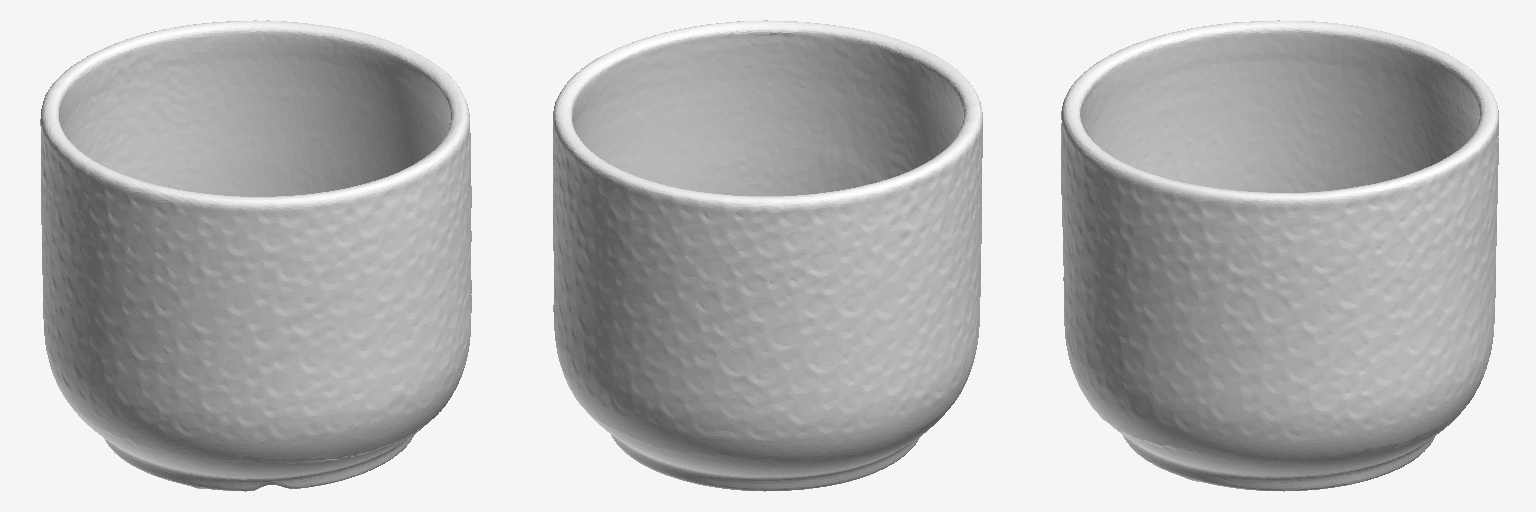
robot.urdf — model.urdf:
<robot name="model.urdf">
    <link name="baseLink">
        <contact>
            <lateral_friction value="0.4"/>
            <rolling_friction value="1"/>
            <spinning_friction value="1"/>
            <contact_cfm value="0.0"/>
            <contact_erp value="1.0"/>
        </contact>
        <inertial>
            <origin rpy="0 -0.01 0" xyz="0.00 0.00 0.0"/>
            <mass value="0.8"/>
            <inertia ixx="1e-3" ixy="0" ixz="0" iyy="1e-3" iyz="0" izz="1e-3"/>
        </inertial>
        <visual>
            <geometry>
                <mesh filename="nontextured.stl" scale="1 1 1"/>
            </geometry>
            <material name="white">
                <color rgba="1 1 1 1"/>
            </material>
        </visual>
        <collision>
            <geometry>
                <mesh filename="nontextured.stl" scale="1 1 1"/>
            </geometry>
        </collision>
    </link>
</robot>

--- Render facts (derived) ---
3 views of the same robot in one strip: view 1: azimuth 30°, elevation 25°; view 2: azimuth 150°, elevation 25°; view 3: azimuth 270°, elevation 25° (orthographic).
Model model.urdf with 1 links and 0 joints (none), rooted at baseLink, posed every joint at zero.
Links seen in each view (by area): view 1: baseLink; view 2: baseLink; view 3: baseLink.
Link boxes in pixels (<box>): baseLink: <box>40,20,471,491</box>; baseLink: <box>553,20,982,491</box>; baseLink: <box>1061,20,1498,491</box>.
Size in the robot's own frame: 0.1642 by 0.167 by 0.1352 metres.
Meshes: 1 distinct files referenced, 1 mesh visuals loaded (1 binary STL).